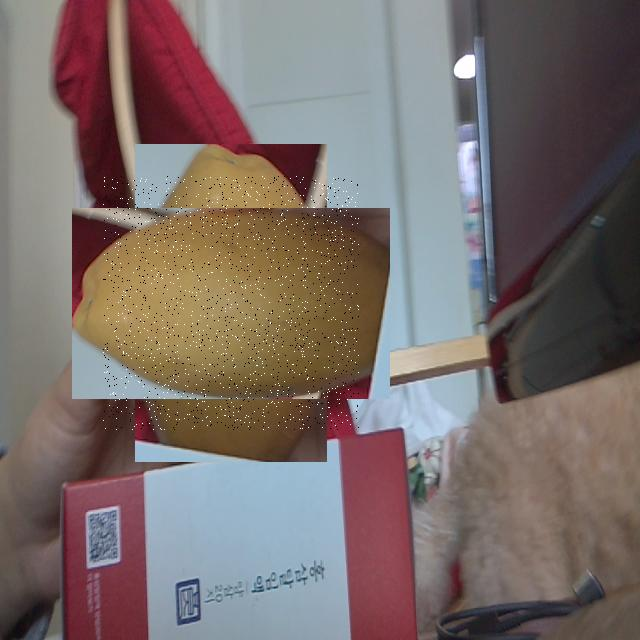pear: (103, 176, 359, 430)
